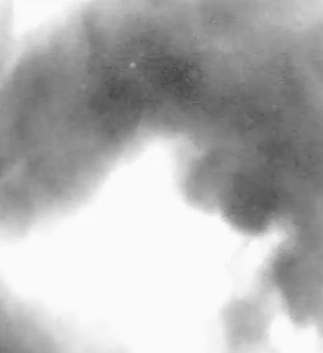Target: (130, 63, 136, 68)
